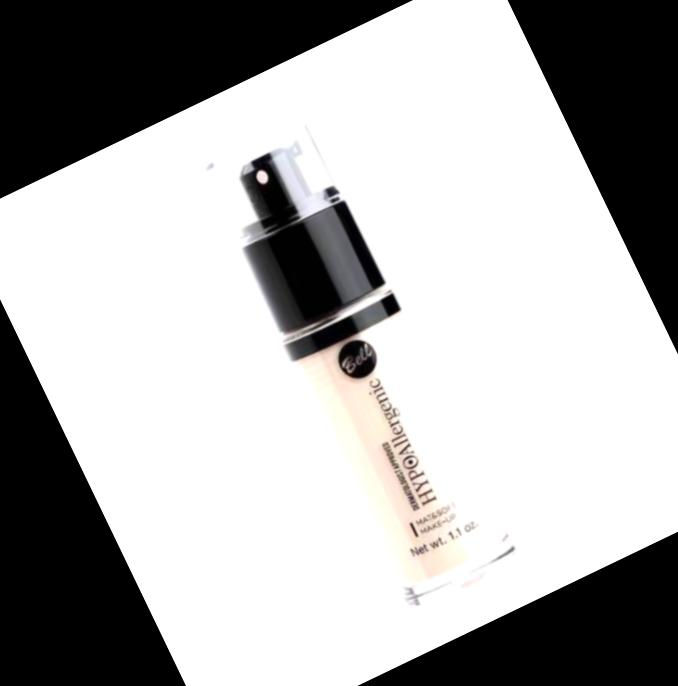cosmetic: (197, 113, 522, 614)
